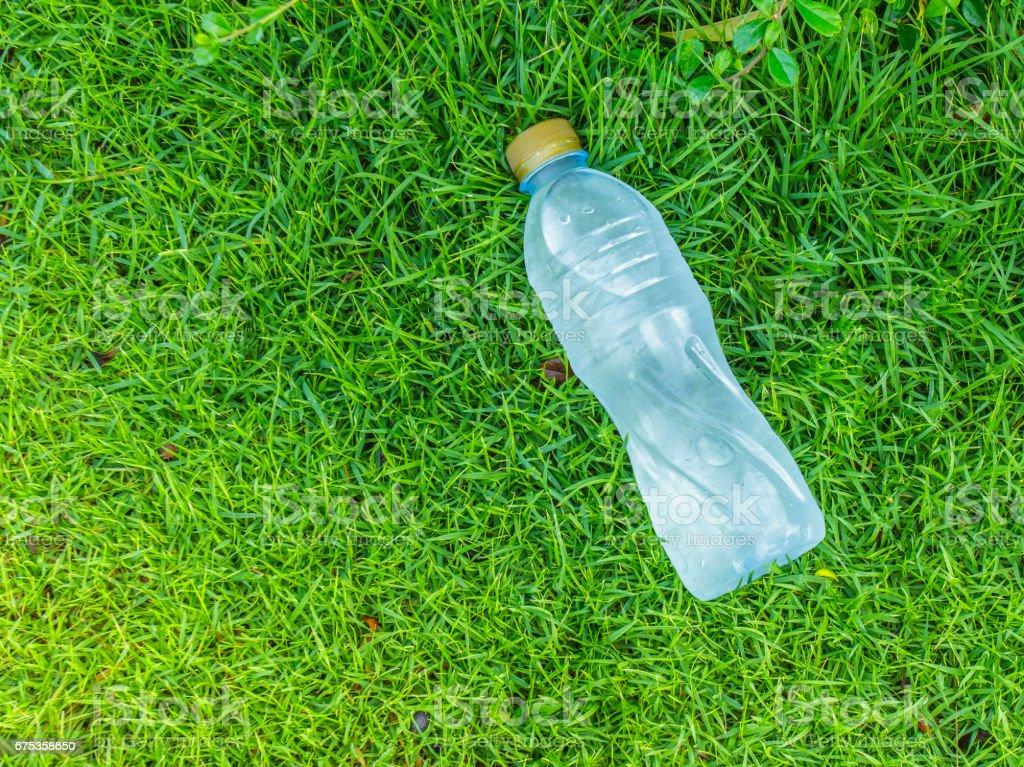bottle: (490, 118, 835, 601)
